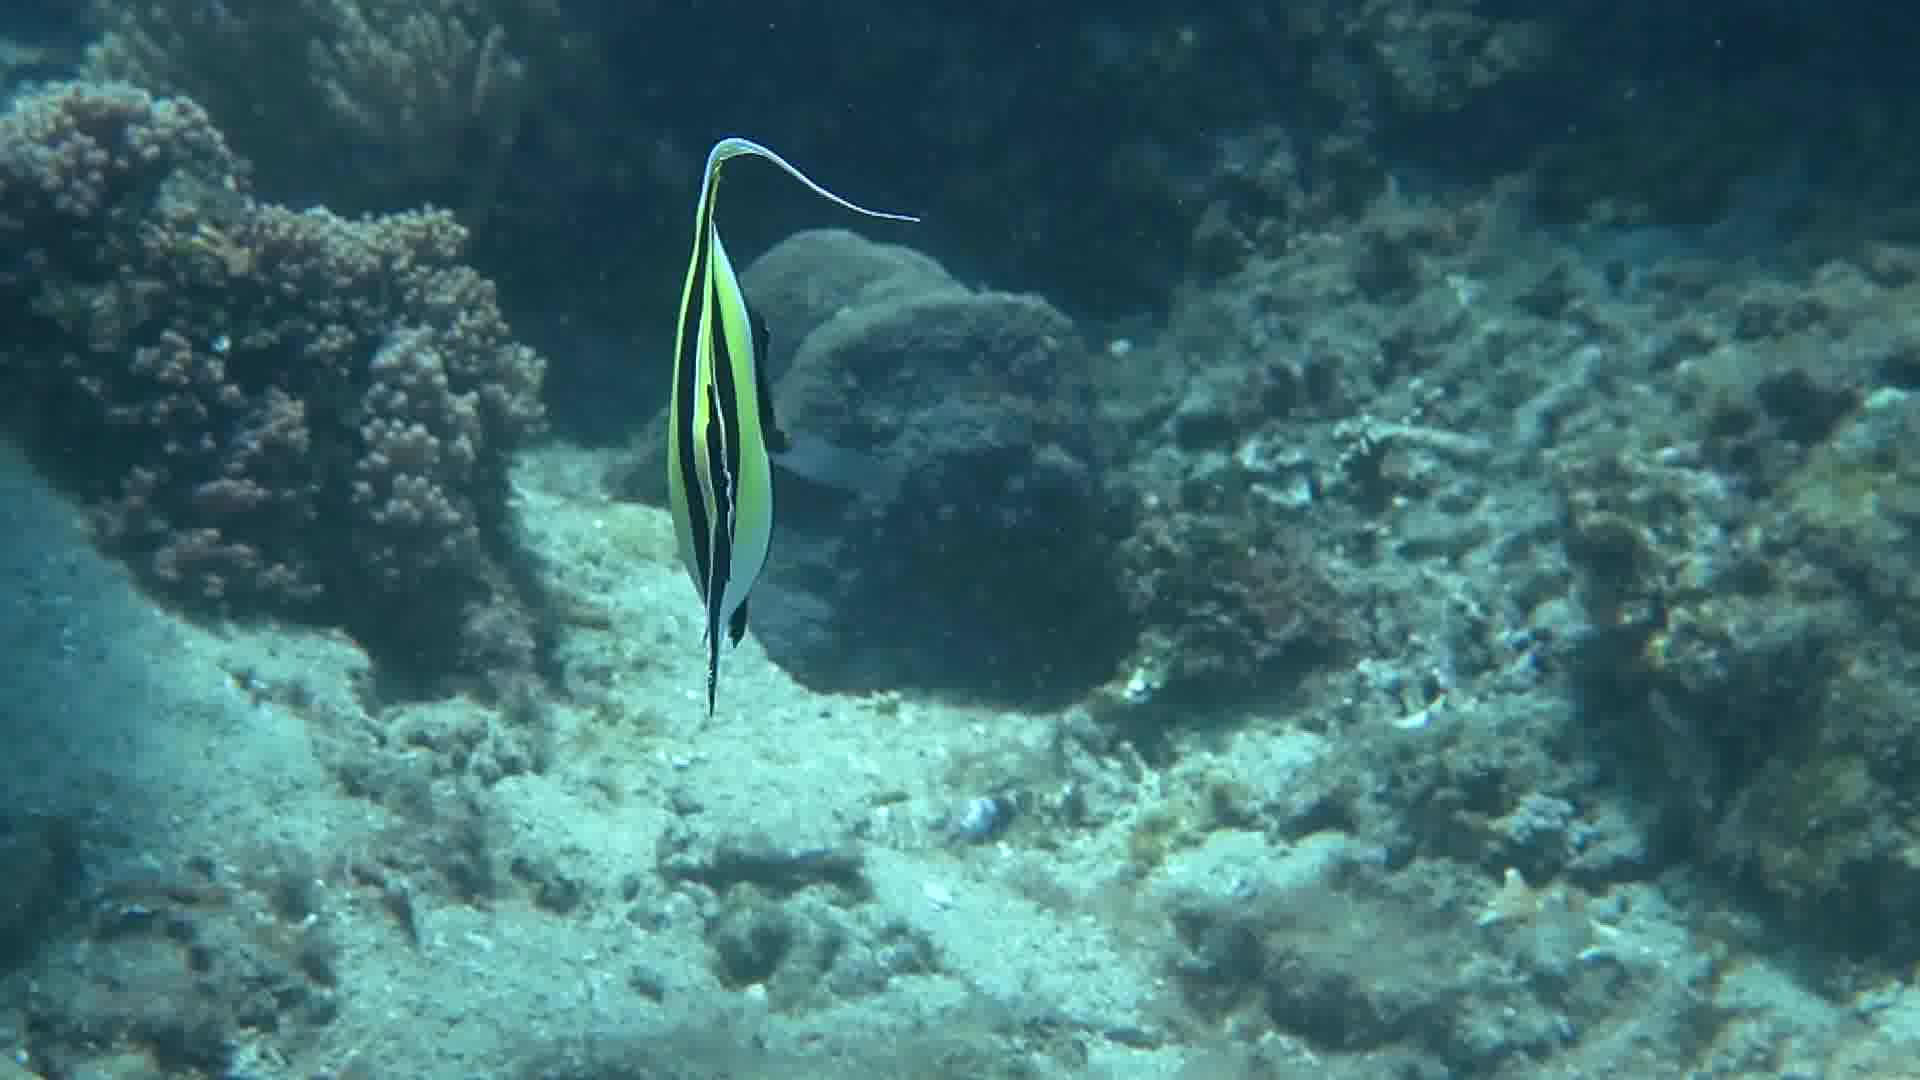Zanclus cornutus: (626, 116, 793, 810)
